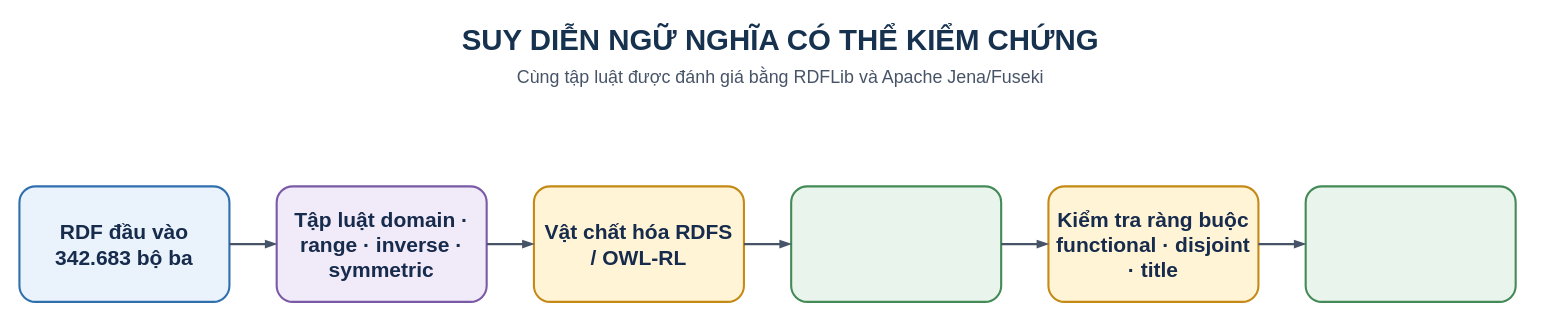
Image size: 1559x320. Some labels were removed from this diagram. Here are the shapes that lost their labels. From the top down, the box of each, then its label:
(790, 185, 1002, 302): RDF kết quả 429.192 bộ ba
(1304, 185, 1516, 302): KẾT QUẢ +86.509 bộ ba · 0 vi phạm
